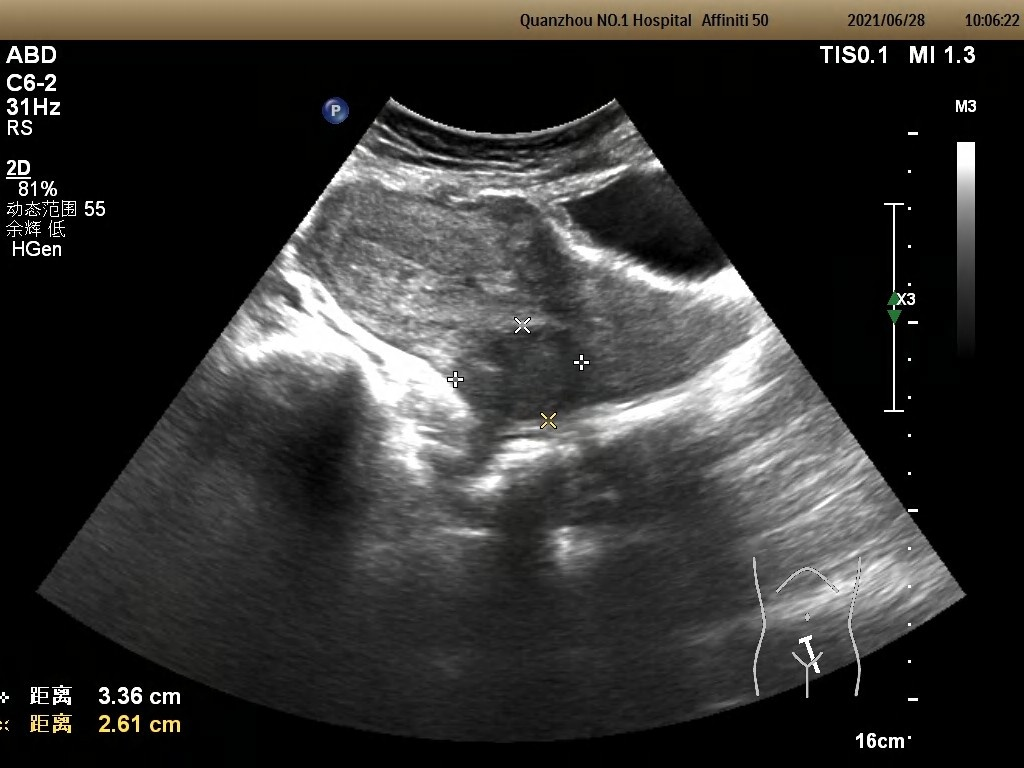肌瘤: (463, 335, 578, 417)
